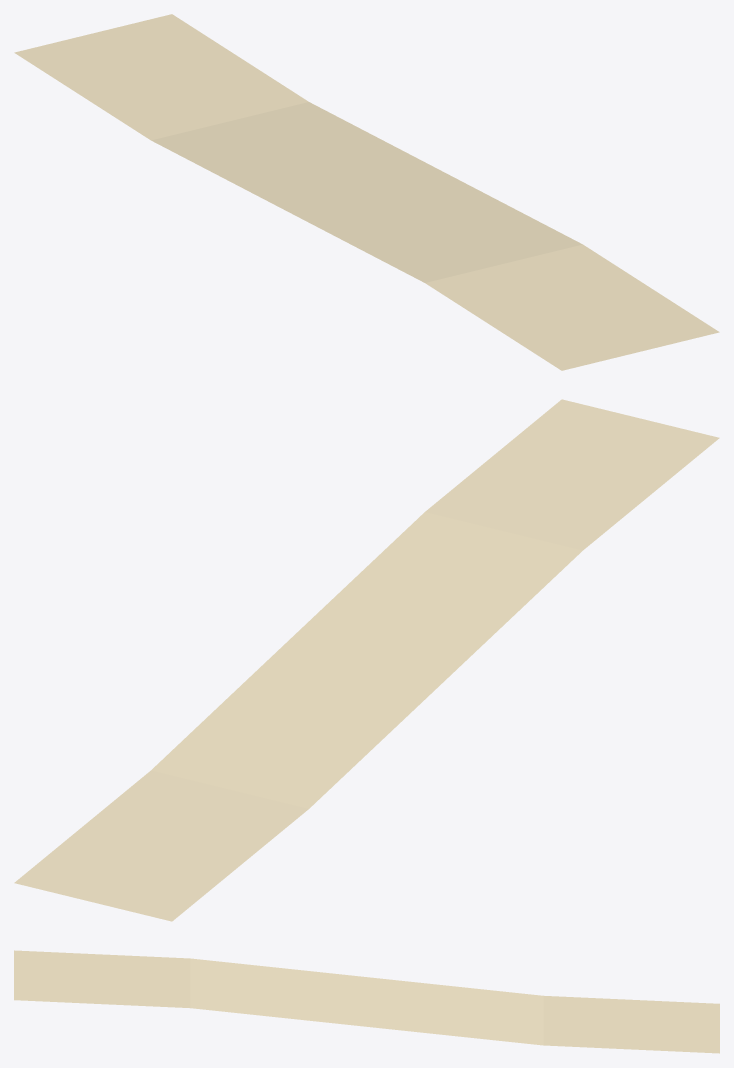
Rendered from Beach_Terrain_Sand_Side_Gentle.fbx.
The picture shows the model from 3 angles, top to bottom: view 1: azimuth 30°, elevation 25°; view 2: azimuth 150°, elevation 25°; view 3: azimuth 270°, elevation 25°; orthographic projection. The views are drawn at different scales.
Visible parts, largest first — view 1: object1; view 2: object1; view 3: object1.
Boxes of the visible parts, x1,y1,x2,y2 form: object1: (14,14,719,370); object1: (14,399,719,921); object1: (14,950,719,1053).
Size of the model in its own units: 1 by 0.5 by 6.
